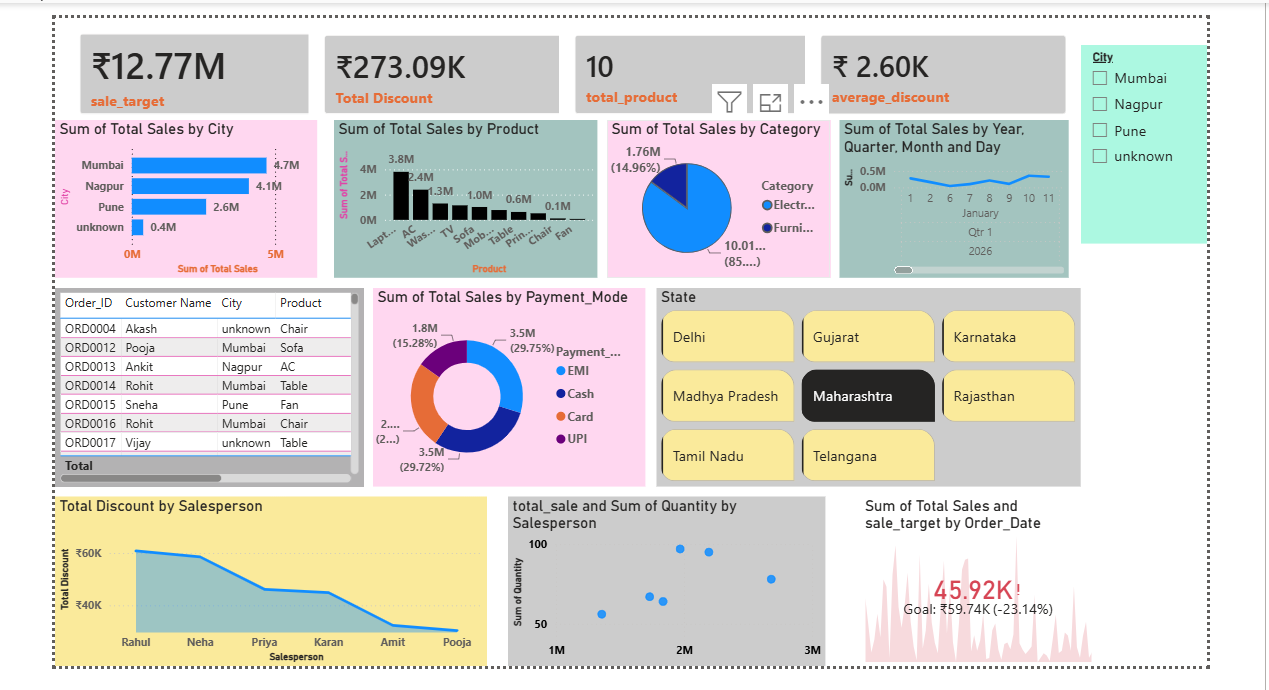

Layout of this report page (visuals, bound fields, positions):
{"tool":"powerbi","page":{"name":"Page 1","canvas":[1280,720],"ordinal":0},"visuals":[{"type":"cardVisual","fields":{"Data":["Sales_Data.sale_target"]},"box":[10.2,0,300,124.4],"z":0},{"type":"cardVisual","fields":{"Data":["Sales_Data.Total Discount"]},"box":[281,1.5,300,122.9],"z":1000},{"type":"cardVisual","fields":{"Data":["Sales_Data.total_product"]},"box":[560.5,1.5,295.6,122.9],"z":2000},{"type":"clusteredBarChart","fields":{"Category":["Sales_Data.City"],"Y":["Sum(Sales_Data.Total Sales)"]},"box":[0,112.7,291.2,175.6],"z":3000},{"type":"clusteredColumnChart","fields":{"Y":["Sum(Sales_Data.Total Sales)"],"Category":["Sales_Data.Product"]},"box":[310.2,112.7,292.7,175.6],"z":4000},{"type":"cardVisual","fields":{"Data":["Sales_Data.average_discount"]},"box":[832.7,1.5,307.3,122.9],"z":5000},{"type":"pieChart","fields":{"Category":["Sales_Data.Category"],"Y":["Sum(Sales_Data.Total Sales)"]},"box":[613.2,112.7,248.8,175.6],"z":6000},{"type":"lineChart","fields":{"Y":["Sum(Sales_Data.Total Sales)"],"Category":["Sales_Data.Order_Date .Variation.Date Hierarchy.Year","Sales_Data.Order_Date .Variation.Date Hierarchy.Quarter","Sales_Data.Order_Date .Variation.Date Hierarchy.Month","Sales_Data.Order_Date .Variation.Date Hierarchy.Day"]},"box":[872.2,112.7,254.6,175.6],"z":7000},{"type":"tableEx","fields":{"Values":["Sales_Data.Order_ID","Sales_Data.Customer Name","Sales_Data.City","Sales_Data.Product","Sum(Sales_Data.Quantity)","Sum(Sales_Data.Total Sales)"]},"box":[0,300,342.4,221],"z":8000},{"type":"donutChart","fields":{"Category":["Sales_Data.Payment_Mode"],"Y":["Sum(Sales_Data.Total Sales)"]},"box":[354.1,300,302.9,221],"z":9000},{"type":"slicer","fields":{"Values":["Sales_Data.City"]},"box":[1140,29.3,140.5,221],"z":10000},{"type":"advancedSlicerVisual","fields":{"Values":["Sales_Data.State"]},"box":[668.8,300,471.2,221],"z":11000},{"type":"kpi","fields":{"TrendLine":["Sales_Data.Order_Date "],"Indicator":["Sum(Sales_Data.Total Sales)"],"Goal":["Sales_Data.sale_target"]},"box":[895.6,531.2,262,188.8],"z":12000},{"type":"stackedAreaChart","fields":{"Y":["Sales_Data.Total Discount"],"Category":["Sales_Data.Salesperson"]},"box":[0,531.2,480,188.8],"z":13000},{"type":"scatterChart","fields":{"X":["Sales_Data.total_sale"],"Category":["Sales_Data.Salesperson"],"Y":["Sum(Sales_Data.Quantity)"]},"box":[503.4,531.2,352.7,188.8],"z":13001}]}

Visuals, with their boxes in screenshot pixels (x1, y1, x2, y2):
cardVisual - Sales_Data.sale_target: BBox(56, 10, 329, 123)
cardVisual - Sales_Data.Total Discount: BBox(303, 11, 576, 123)
cardVisual - Sales_Data.total_product: BBox(558, 11, 827, 123)
clusteredBarChart - Sales_Data.City x Sum(Sales_Data.Total Sales): BBox(46, 113, 312, 273)
clusteredColumnChart - Sum(Sales_Data.Total Sales) x Sales_Data.Product: BBox(329, 113, 596, 273)
cardVisual - Sales_Data.average_discount: BBox(806, 11, 1086, 123)
pieChart - Sales_Data.Category x Sum(Sales_Data.Total Sales): BBox(606, 113, 833, 273)
lineChart - Sum(Sales_Data.Total Sales) x Sales_Data.Order_Date .Variation.Date Hierarchy.Year: BBox(842, 113, 1074, 273)
tableEx - Sales_Data.Order_ID x Sales_Data.Customer Name: BBox(46, 284, 359, 485)
donutChart - Sales_Data.Payment_Mode x Sum(Sales_Data.Total Sales): BBox(369, 284, 646, 485)
slicer - Sales_Data.City: BBox(1086, 37, 1215, 238)
advancedSlicerVisual - Sales_Data.State: BBox(657, 284, 1086, 485)
kpi - Sales_Data.Order_Date  x Sum(Sales_Data.Total Sales): BBox(863, 495, 1103, 667)
stackedAreaChart - Sales_Data.Total Discount x Sales_Data.Salesperson: BBox(46, 495, 484, 667)
scatterChart - Sales_Data.total_sale x Sales_Data.Salesperson: BBox(506, 495, 827, 667)
